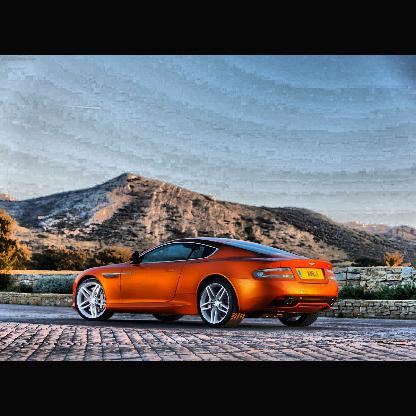Aston Martin Virage Coupe 2012: (70, 236, 342, 328)
